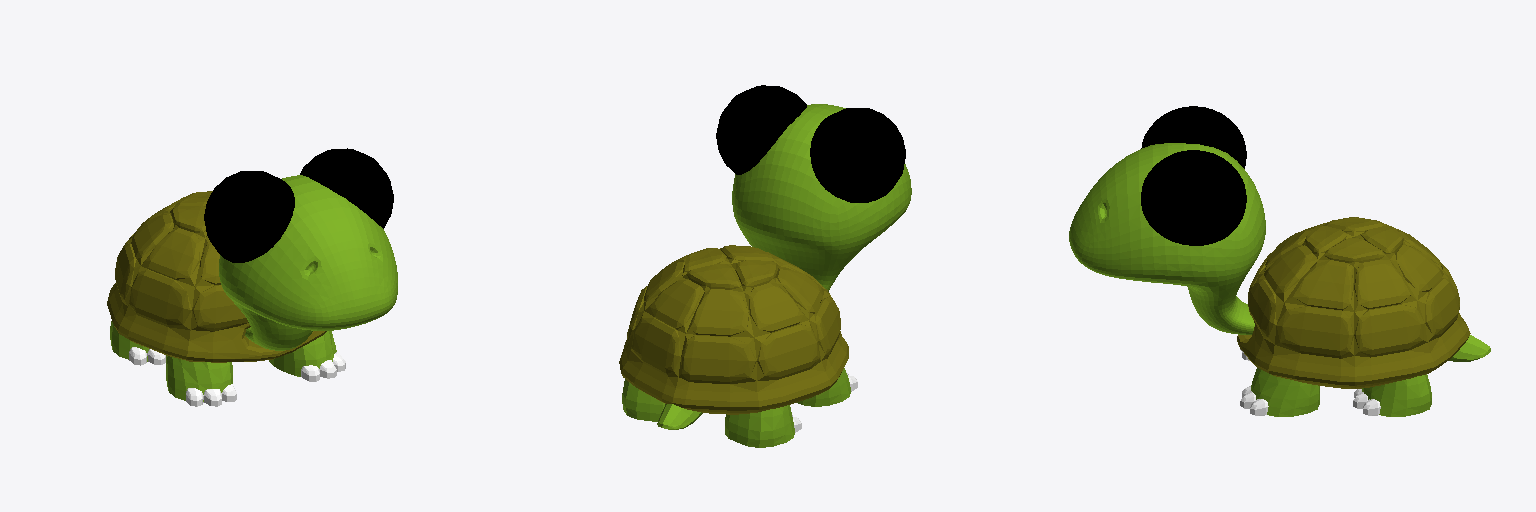
Rendered from ttt.obj.
The picture shows the model from 3 angles: view 1: azimuth 30°, elevation 25°; view 2: azimuth 150°, elevation 25°; view 3: azimuth 270°, elevation 25°; orthographic projection.
Parts seen in each view (by area): view 1: pCube1, pSphere3, pSphere5, pSphere4, group2_pCube2, group1_pCube2, group5_pCube4; view 2: pSphere3, pCube1, pSphere5, pSphere4, group5_pCube4, group4_pCube4, group2_pCube2, pCube9; view 3: pSphere3, pCube1, pSphere4, pSphere5, group1_pCube2, group4_pCube4, pCube9.
Part boxes in pixels (x1,y1,x2,y2): pCube1: (219,175,397,350); pSphere3: (107,191,326,362); pSphere5: (204,171,294,262); pSphere4: (300,148,393,228); group2_pCube2: (166,355,232,401); group1_pCube2: (269,331,336,376); group5_pCube4: (110,321,148,361); pSphere3: (619,245,848,414); pCube1: (732,104,911,291); pSphere5: (810,108,905,202); pSphere4: (716,85,806,174); group5_pCube4: (725,405,794,447); group4_pCube4: (622,379,664,421); group2_pCube2: (797,368,850,406); pCube9: (657,404,702,429); pSphere3: (1237,217,1470,388); pCube1: (1069,143,1265,334); pSphere4: (1141,150,1246,245); pSphere5: (1141,106,1246,168); group1_pCube2: (1251,368,1319,416); group4_pCube4: (1362,374,1431,416); pCube9: (1449,335,1490,361).
Bounding box in the file's own units: 11.38 × 13.33 × 20.63.